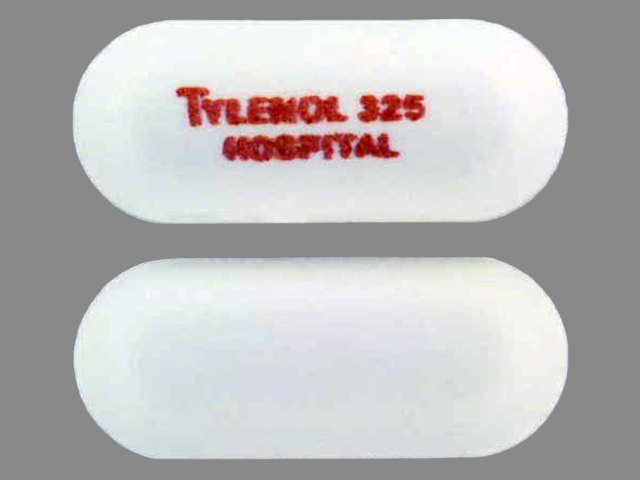Acetaminophen 325 MG Oral Tablet: (67, 8, 576, 233), (65, 251, 580, 467)
